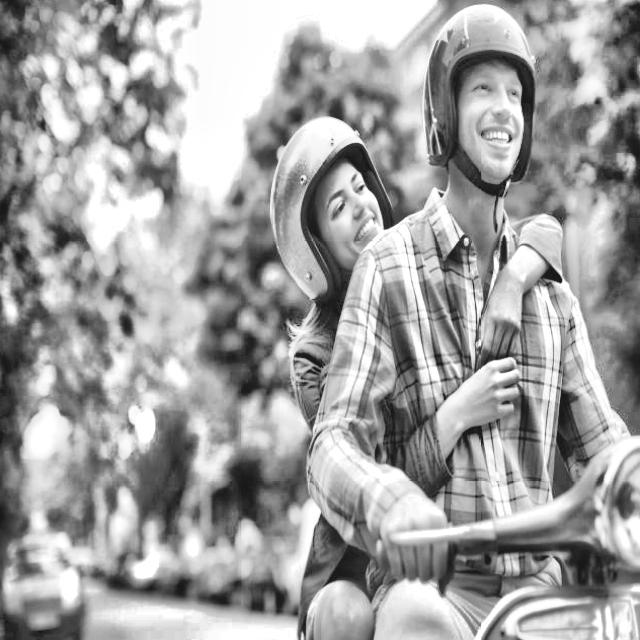Helmet: (263, 111, 397, 312), (417, 0, 538, 203)
